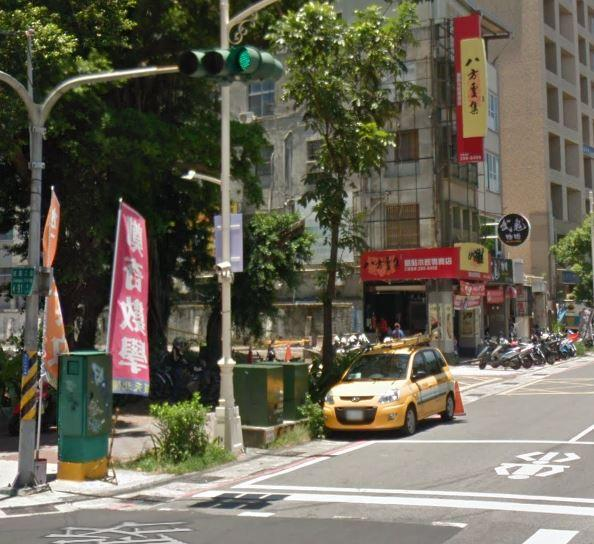green_traffic_light: (175, 45, 286, 82)
